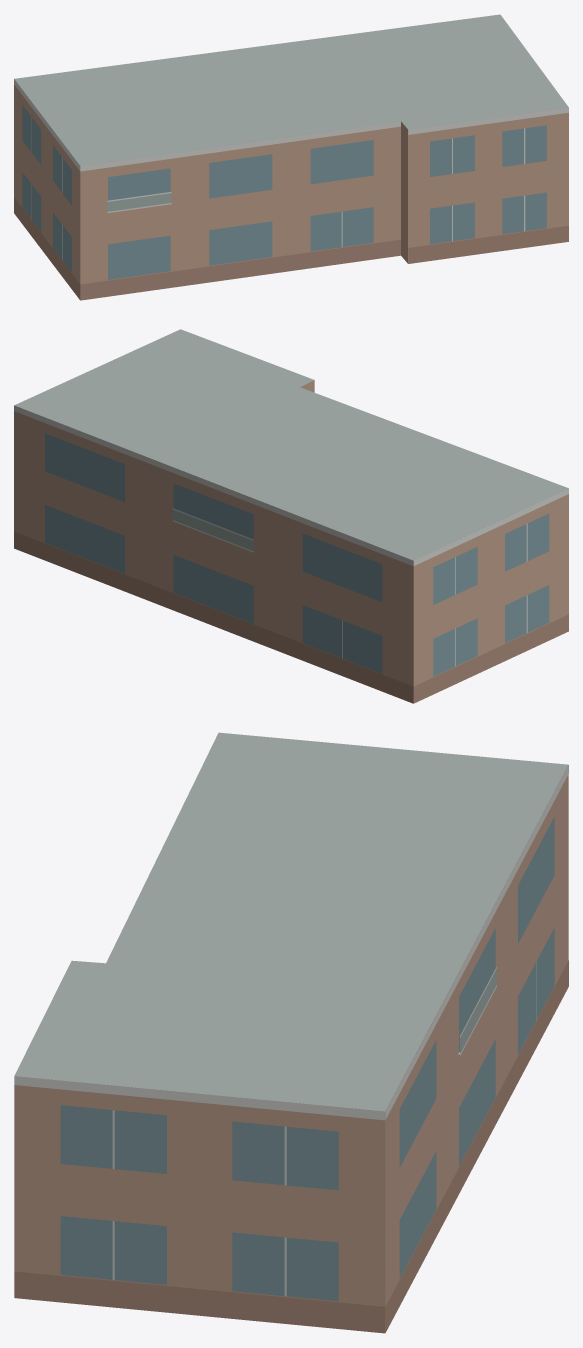
File: survey-upis-32660582.glb
The picture shows the model from 3 angles, top to bottom: view 1: azimuth 30°, elevation 25°; view 2: azimuth 150°, elevation 25°; view 3: azimuth 270°, elevation 25°; orthographic projection. The views are drawn at different scales.
Parts seen in each view (by area): view 1: survey-upis-32660582.tmp; view 2: survey-upis-32660582.tmp; view 3: survey-upis-32660582.tmp.
Boxes of the visible parts, x1,y1,x2,y2 form: survey-upis-32660582.tmp: (14,14,568,300); survey-upis-32660582.tmp: (14,329,568,703); survey-upis-32660582.tmp: (14,732,568,1333).
Size of the model in its own units: 22.36 by 6.1 by 13.83.
